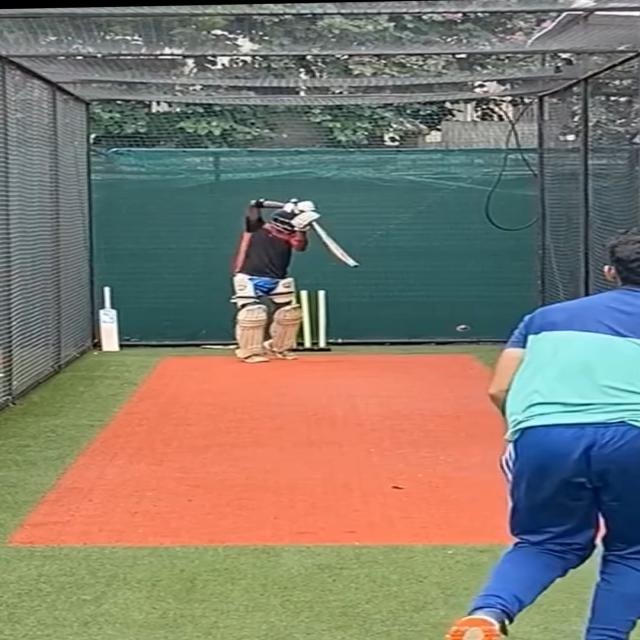ball: (449, 320, 476, 336)
stump: (286, 286, 332, 354)
